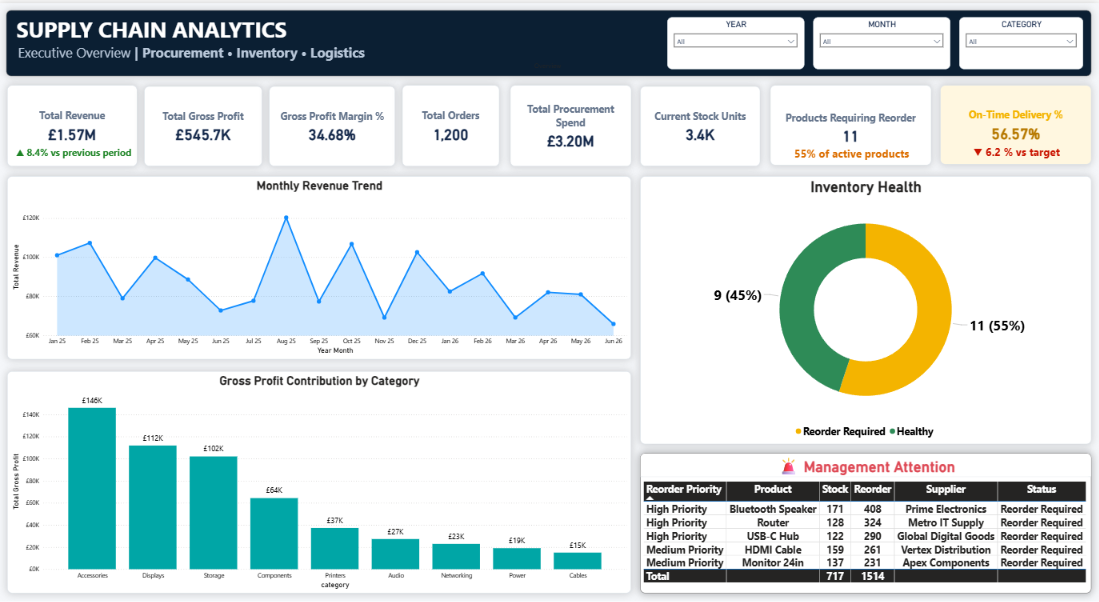

Layout of this report page (visuals, bound fields, positions):
{"tool":"powerbi","page":{"name":"Executive Overview","canvas":[2200,1200],"ordinal":0},"visuals":[{"type":"textbox","box":[14,14,2170,132],"z":0},{"type":"cardVisual","fields":{"Data":["core orders.Total Revenue"]},"box":[16,164,260,162],"z":1000},{"type":"slicer","title":"YEAR","fields":{"Values":["core orders.order_date.Variation.Date Hierarchy.Year","core orders.order_date.Variation.Date Hierarchy.Quarter","core orders.order_date.Variation.Date Hierarchy.Month","core orders.order_date.Variation.Date Hierarchy.Day"]},"box":[1336,28,274,104],"z":2000},{"type":"slicer","title":"CATEGORY","fields":{"Values":["core products.category"]},"box":[1920,28,248,104],"z":3000},{"type":"cardVisual","fields":{"Data":["core orders.Total Gross Profit"]},"box":[290,166,236,160],"z":4000},{"type":"cardVisual","fields":{"Data":["core orders.Gross Profit Margin %"]},"box":[540,166,252,160],"z":5000},{"type":"cardVisual","fields":{"Data":["core orders.Total Orders"]},"box":[806,164,194,162],"z":6000},{"type":"cardVisual","title":"Reorder Required","fields":{"Data":["core inventory.Products Requiring Reorder"]},"box":[1542,164,322,160],"z":7000},{"type":"cardVisual","fields":{"Data":["core inventory.Current Stock Units"]},"box":[1282,166,240,160],"z":8000},{"type":"cardVisual","fields":{"Data":["core purchases.Total Procurement Spend"]},"box":[1022,164,242,162],"z":9000},{"type":"cardVisual","fields":{"Data":["core shipments.On-Time Delivery %"]},"box":[1882,164,302,158],"z":10000},{"type":"lineChart","title":"Monthly Revenue Trend","fields":{"Y":["core orders.Total Revenue"],"Category":["core orders.Year Month"]},"box":[16,346,1248,366],"z":11000},{"type":"clusteredColumnChart","title":"Gross Profit Contribution by Category","fields":{"Category":["core products.category"],"Y":["core orders.Total Gross Profit"]},"box":[16,736,1248,444],"z":12000},{"type":"donutChart","title":"Inventory Health","fields":{"Category":["core inventory.stock_status"],"Y":["CountNonNull(core inventory.product_id)"]},"box":[1282,346,902,536],"z":13000},{"type":"tableEx","title":"🚨 Management Attention","fields":{"Values":["core inventory.Reorder Priority","core products.product_name","Sum(core inventory.current_stock_units)","Sum(core inventory.reorder_point_units)","core suppliers.supplier_name","core inventory.stock_status"]},"box":[1282,900,902,280],"z":14000},{"type":"textbox","box":[16,280,266,46],"z":15000},{"type":"textbox","box":[1902,278,266,46],"z":16000},{"type":"textbox","box":[1542,280,326,46],"z":17000},{"type":"slicer","title":"MONTH","fields":{"Values":["core orders.order_date.Variation.Date Hierarchy.Month"]},"box":[1628,28,274,104],"z":18000}]}

Visuals, with their boxes in screenshot pixels (x1, y1, x2, y2), scaled from the page's 2200x1200 canvas onto the 1099x602 screenshot:
textbox: 7 7 1091 73
cardVisual - core orders.Total Revenue: 8 82 138 164
"YEAR" slicer: 667 14 804 66
"CATEGORY" slicer: 959 14 1083 66
cardVisual - core orders.Total Gross Profit: 145 83 263 164
cardVisual - core orders.Gross Profit Margin %: 270 83 396 164
cardVisual - core orders.Total Orders: 403 82 500 164
"Reorder Required" cardVisual: 770 82 931 163
cardVisual - core inventory.Current Stock Units: 640 83 760 164
cardVisual - core purchases.Total Procurement Spend: 511 82 631 164
cardVisual - core shipments.On-Time Delivery %: 940 82 1091 162
"Monthly Revenue Trend" lineChart: 8 174 631 357
"Gross Profit Contribution by Category" clusteredColumnChart: 8 369 631 592
"Inventory Health" donutChart: 640 174 1091 442
"🚨 Management Attention" tableEx: 640 452 1091 592
textbox: 8 140 141 164
textbox: 950 139 1083 163
textbox: 770 140 933 164
"MONTH" slicer: 813 14 950 66
